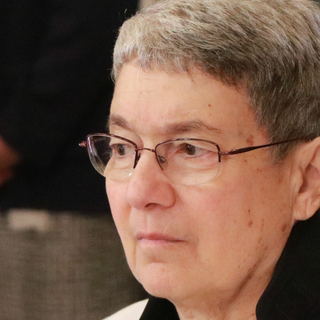eye: (157, 138, 222, 167), (100, 138, 138, 167)
